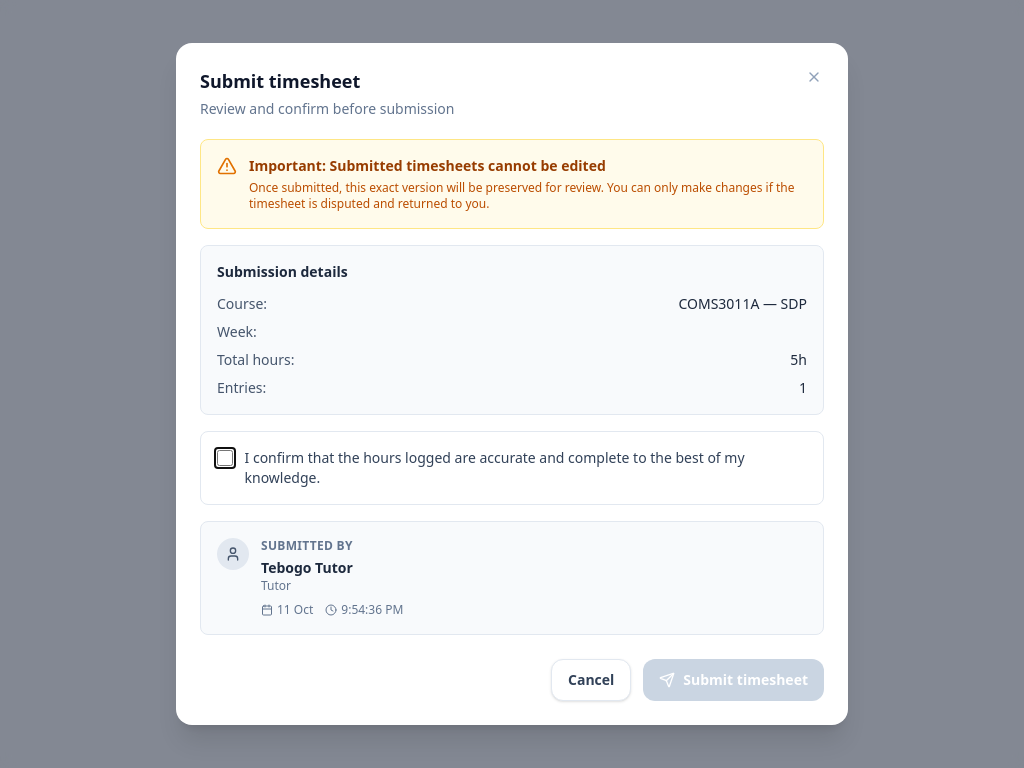
Test: SubmitConfirmationModal › keeps submit disabled until the tutor confirms, then reports success
The width and height of the screenshot is (1024, 768).
expect the dialog "Submit timesheet" is shown: met, box [176, 43, 848, 725]
expect the text "Important: Submitted timesheets cannot be edited" is shown: met, box [249, 156, 606, 175]
Click the checkbox at (225, 458), box [217, 450, 232, 466]
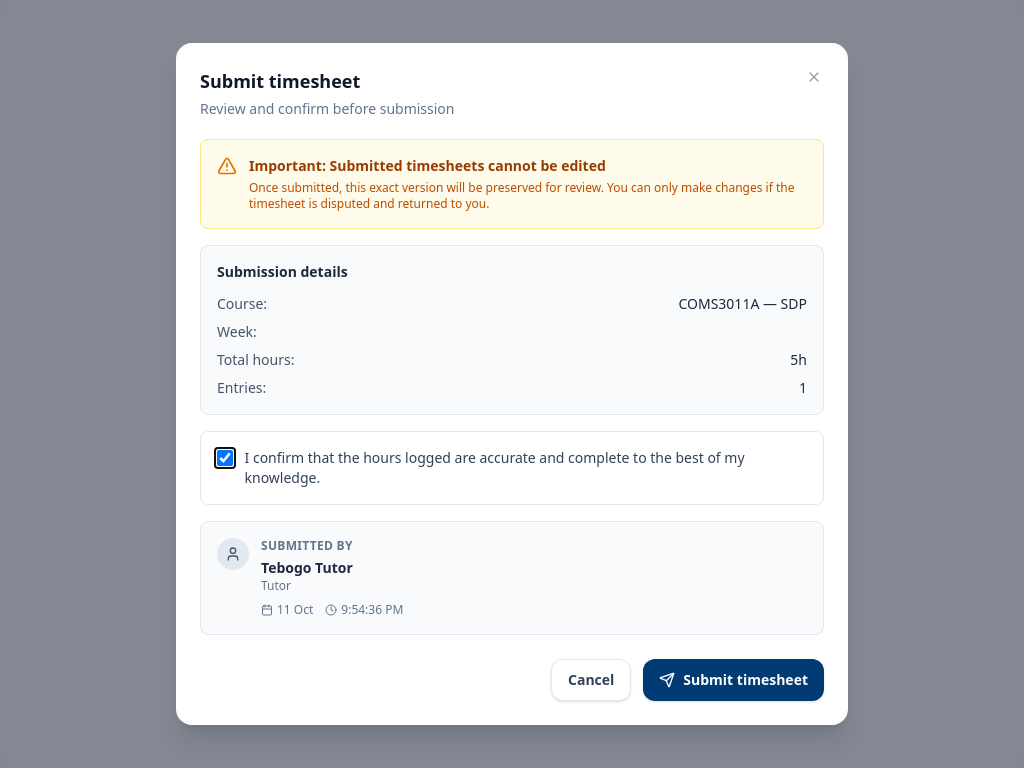
expect the button "Submit timesheet" is enabled: met
Click the button "Submit timesheet" at (734, 680), box [643, 659, 824, 701]
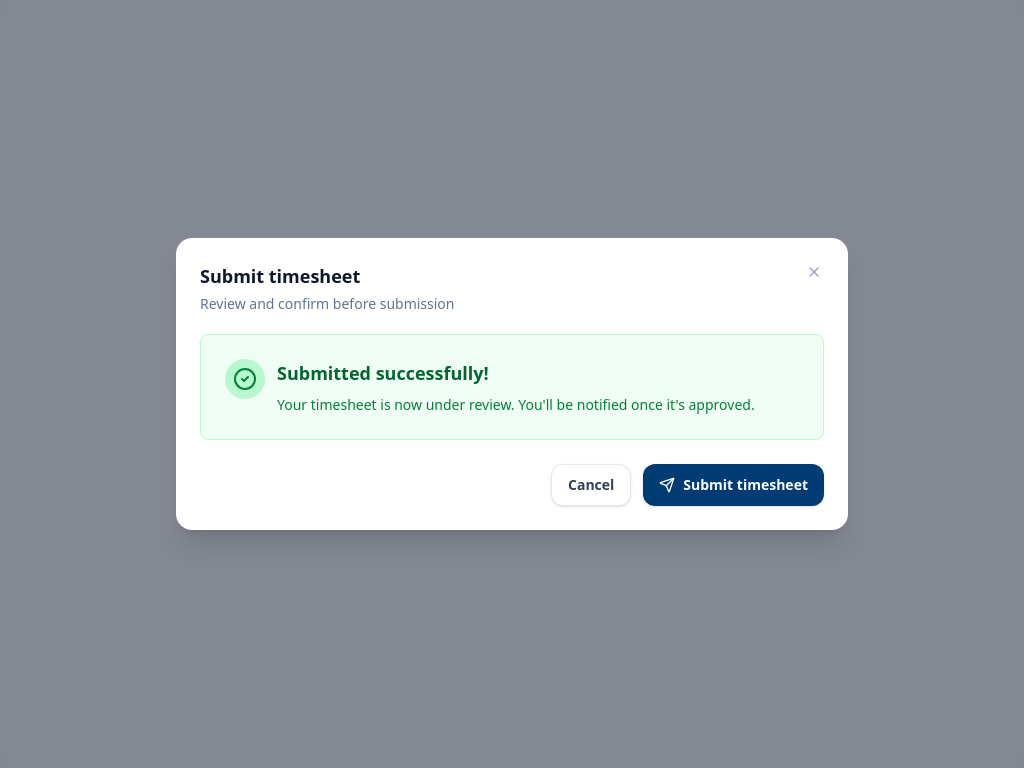
expect the text "Submitted successfully!" is shown: met, box [277, 361, 489, 385]
